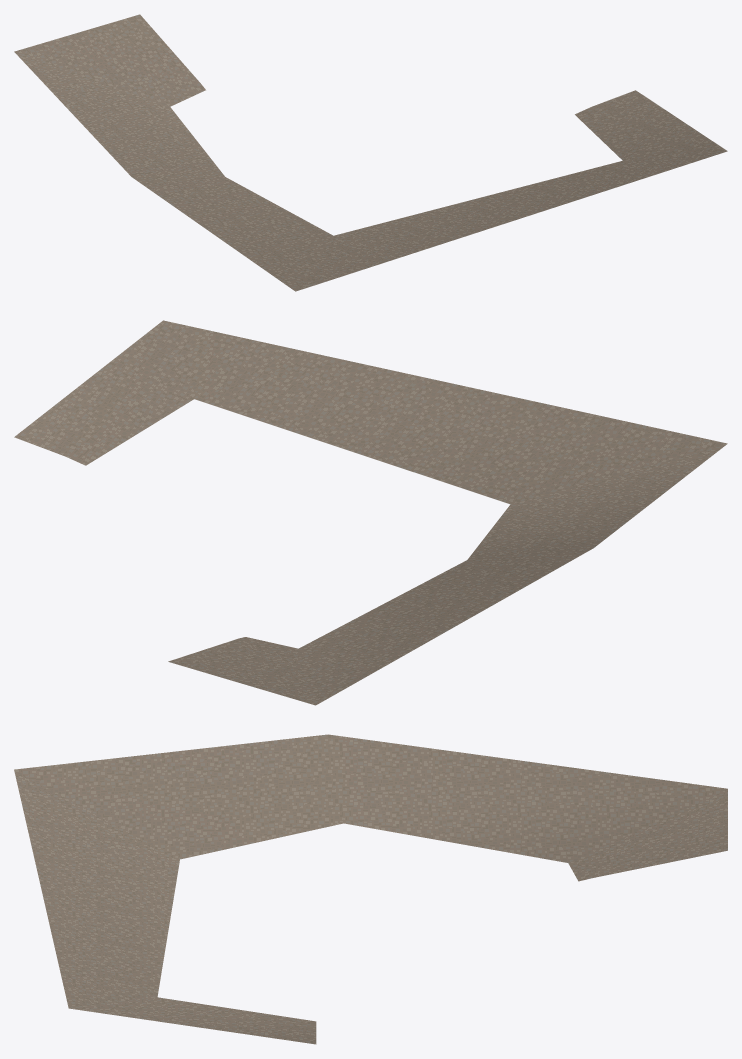
File: kd_stage_135ded_4_134_exterior.glb
The picture shows the model from 3 angles, top to bottom: view 1: azimuth 30°, elevation 25°; view 2: azimuth 150°, elevation 25°; view 3: azimuth 270°, elevation 25°; orthographic projection. The views are drawn at different scales.
Parts seen in each view (by area): view 1: kd_stage_135ded_4_134_exterior; view 2: kd_stage_135ded_4_134_exterior; view 3: kd_stage_135ded_4_134_exterior.
Boxes of the visible parts, left/top/right/bottom form: kd_stage_135ded_4_134_exterior: left=14, top=14, right=727, bottom=291; kd_stage_135ded_4_134_exterior: left=14, top=320, right=727, bottom=705; kd_stage_135ded_4_134_exterior: left=14, top=734, right=727, bottom=1044.
Bounding box in the file's own units: 1.25 × 0.1053 × 1.37.
1 material, 1 textured.
